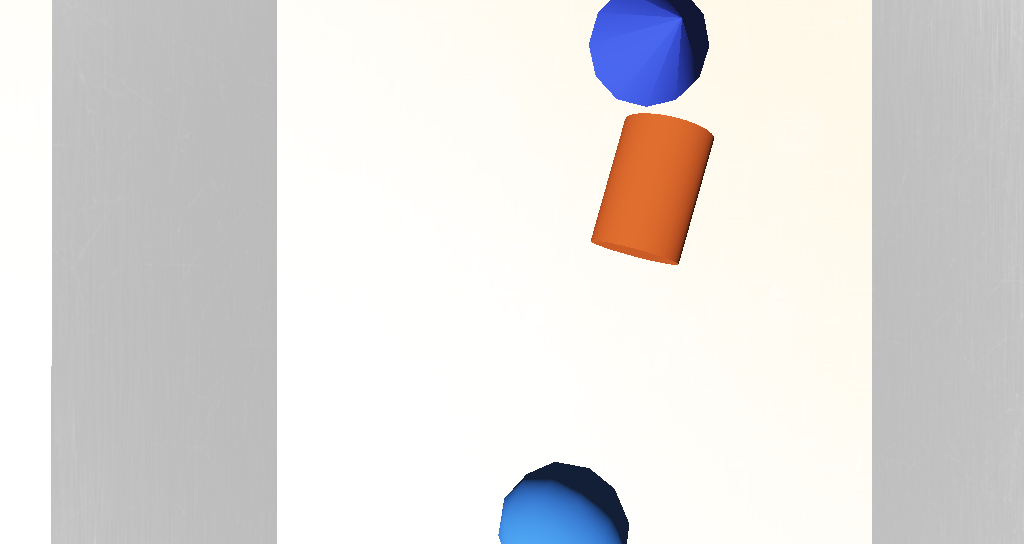cone: (515, 210, 576, 267)
cylinder: (512, 157, 579, 215)
sphere: (468, 336, 529, 379)
